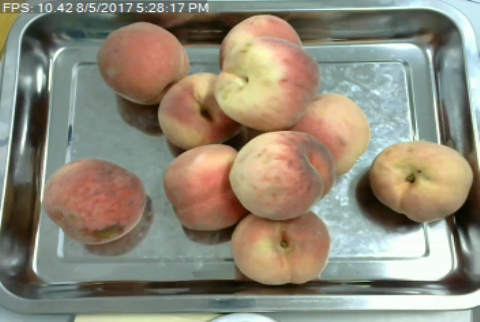Peach: (224, 125, 341, 219), (215, 37, 320, 131), (43, 158, 147, 244), (367, 140, 475, 222), (156, 68, 250, 153), (99, 20, 188, 107), (229, 213, 332, 286), (167, 143, 247, 232), (283, 93, 369, 172)
